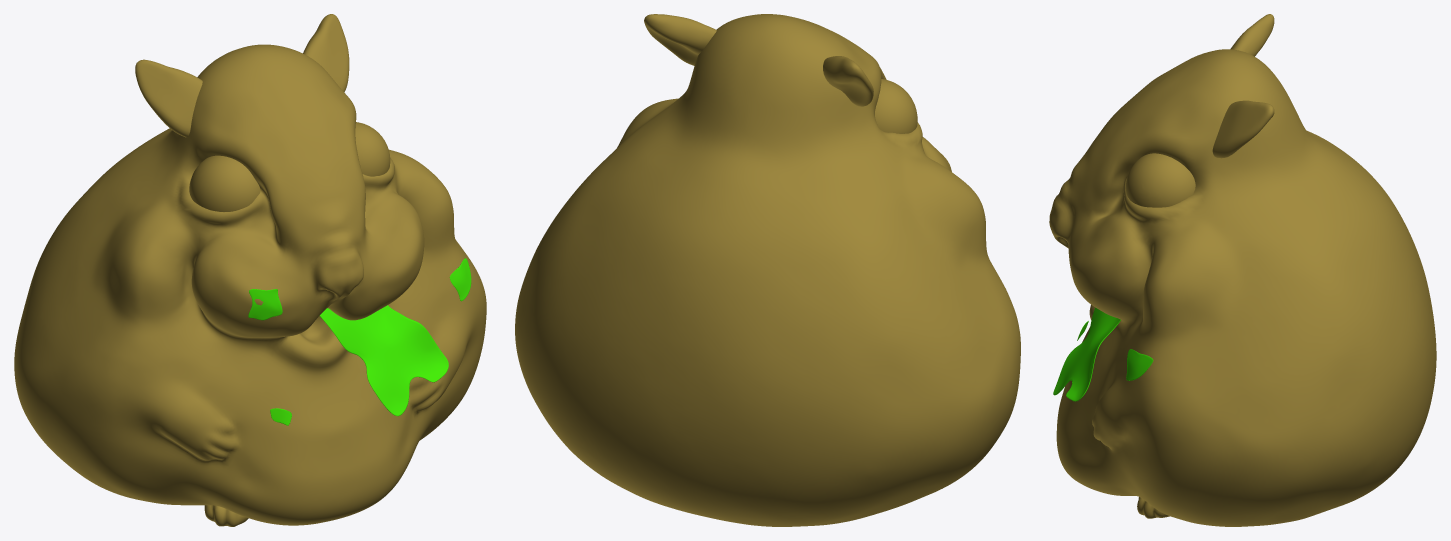
Rendered from CricetoBibbiaLow (1).fbx.
3 views of the same model, side by side, from view 1: azimuth 30°, elevation 25°; view 2: azimuth 150°, elevation 25°; view 3: azimuth 270°, elevation 25° (orthographic). The views are drawn at different scales.
Visible parts, largest first — view 1: CricetoBibbiaDecimato1; view 2: CricetoBibbiaDecimato1; view 3: CricetoBibbiaDecimato1.
Boxes of the visible parts, box(x1,y1,x2,y2) form: CricetoBibbiaDecimato1: box(14, 14, 486, 526); CricetoBibbiaDecimato1: box(515, 14, 1020, 526); CricetoBibbiaDecimato1: box(1049, 14, 1436, 526).
Size of the model in its own units: 3.48 by 3.32 by 2.74.
